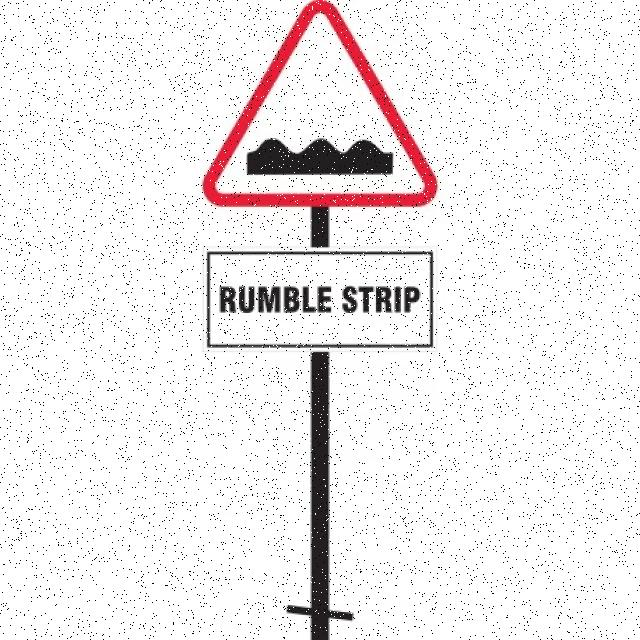Rumble_strip: (207, 5, 456, 205)
